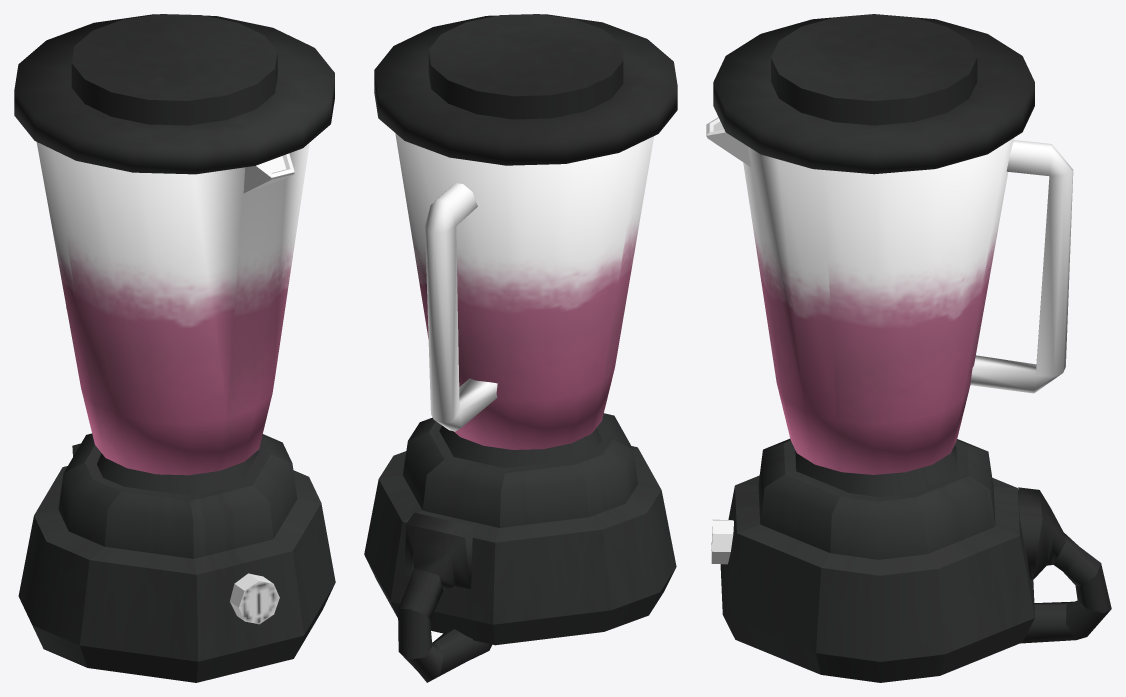
The model's file is Blender_Ground.fbx.
The picture shows the model from 3 angles, left to right: view 1: azimuth 30°, elevation 25°; view 2: azimuth 150°, elevation 25°; view 3: azimuth 270°, elevation 25°; orthographic projection. The views are drawn at different scales.
Visible parts, largest first — view 1: Blender; view 2: Blender; view 3: Blender.
Part boxes in pixels (<box>): Blender: <box>14,14,335,682</box>; Blender: <box>364,14,677,682</box>; Blender: <box>706,14,1111,682</box>.
Size of the model in its own units: 35.08 by 67.98 by 42.39.
